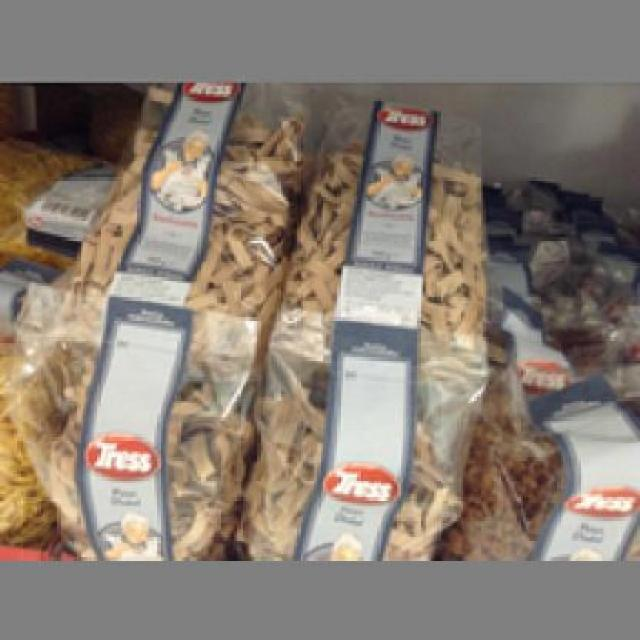Pasta: (2, 282, 258, 555), (232, 314, 494, 557), (56, 80, 290, 306), (279, 82, 492, 312)
